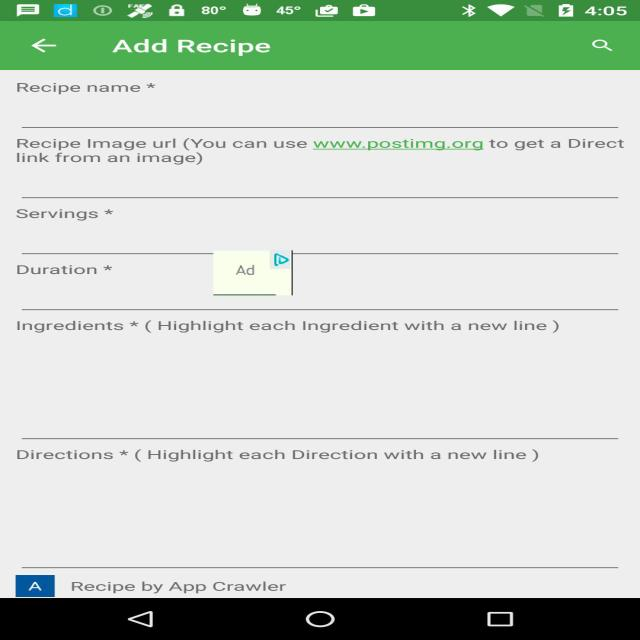sneaking: (213, 250, 293, 296)
